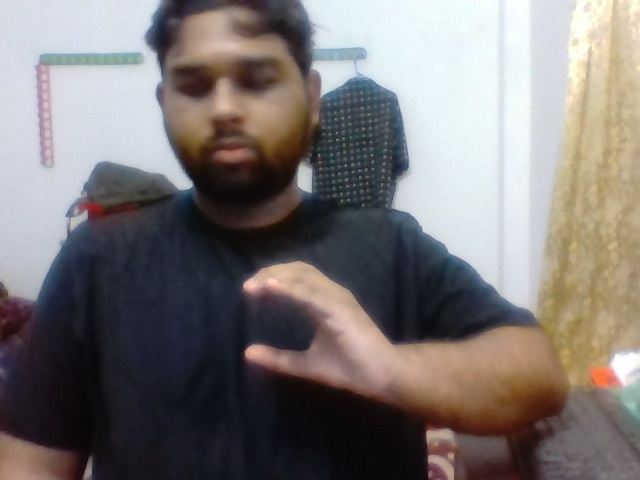C: (229, 255, 411, 423)
